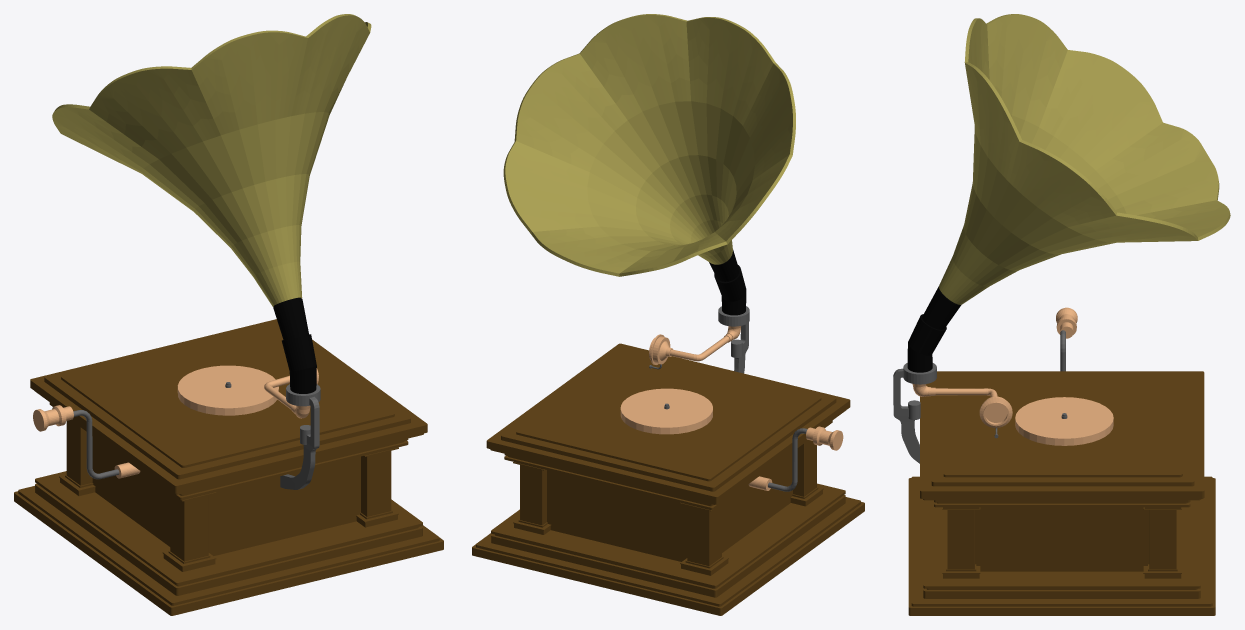
File: 唱片机.fbx
3 views of the same model, side by side, from view 1: azimuth 30°, elevation 25°; view 2: azimuth 150°, elevation 25°; view 3: azimuth 270°, elevation 25° (orthographic). The views are drawn at different scales.
Parts seen in each view (by area): view 1: base, head, holder.001, handle, rotate player; view 2: base, head, holder.001, rotate player, handle; view 3: base, head, holder.001, rotate player, handle.
Boxes of the visible parts, left/top/right/bottom form: base: left=14, top=319, right=443, bottom=615; head: left=52, top=14, right=371, bottom=393; holder.001: left=177, top=365, right=278, bottom=415; handle: left=33, top=405, right=119, bottom=479; rotate player: left=264, top=368, right=318, bottom=418; base: left=472, top=306, right=864, bottom=615; head: left=503, top=14, right=795, bottom=315; holder.001: left=620, top=388, right=712, bottom=434; rotate player: left=649, top=326, right=741, bottom=369; handle: left=768, top=426, right=843, bottom=491; base: left=893, top=363, right=1215, bottom=615; head: left=907, top=14, right=1230, bottom=372; holder.001: left=1015, top=397, right=1113, bottom=445; rotate player: left=912, top=383, right=1012, bottom=438; handle: left=1056, top=307, right=1077, bottom=371.
Size of the model in its own units: 104 by 158 by 93.81.
